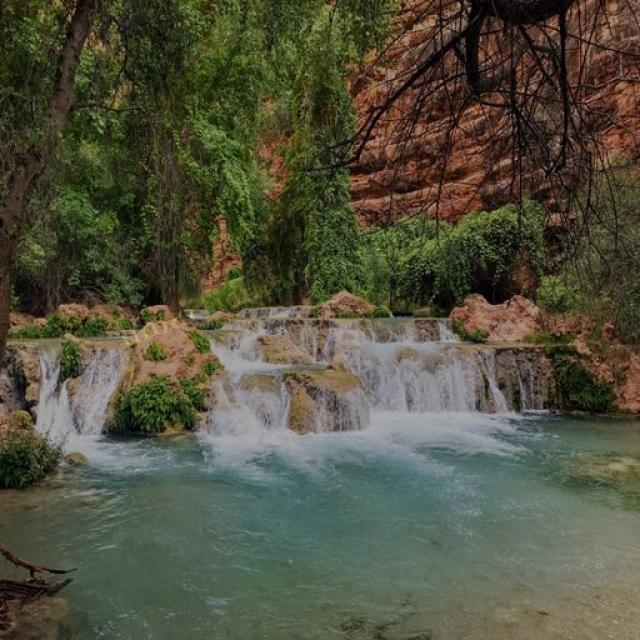watermark: (115, 214, 423, 351)
